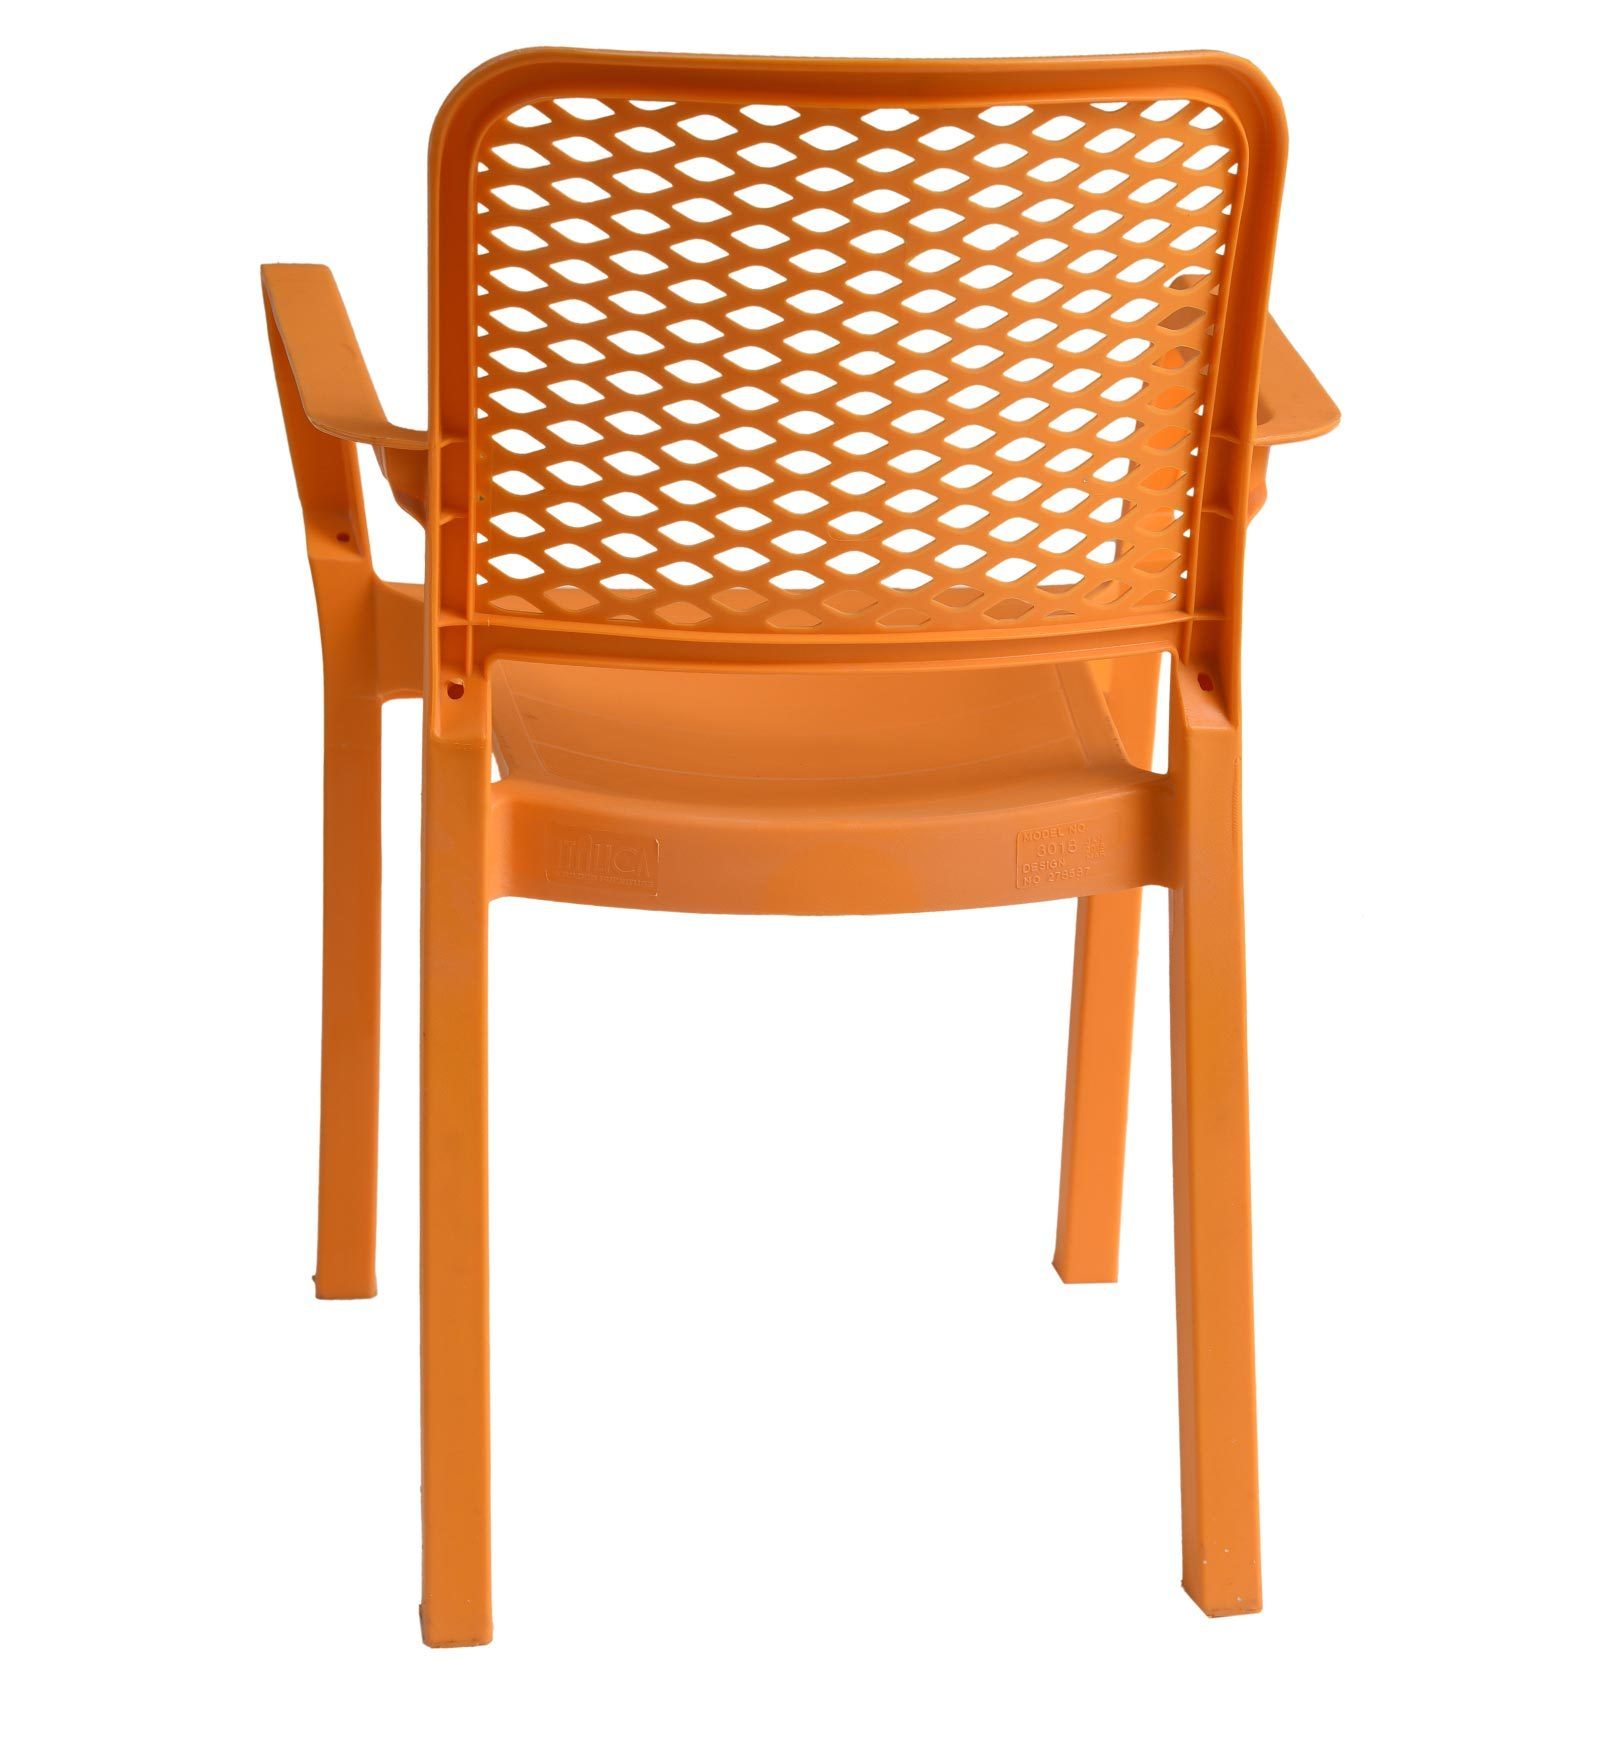Luxury Plastic Chair in Orange Colour by Italica Furniture: (228, 25, 1352, 1645)
